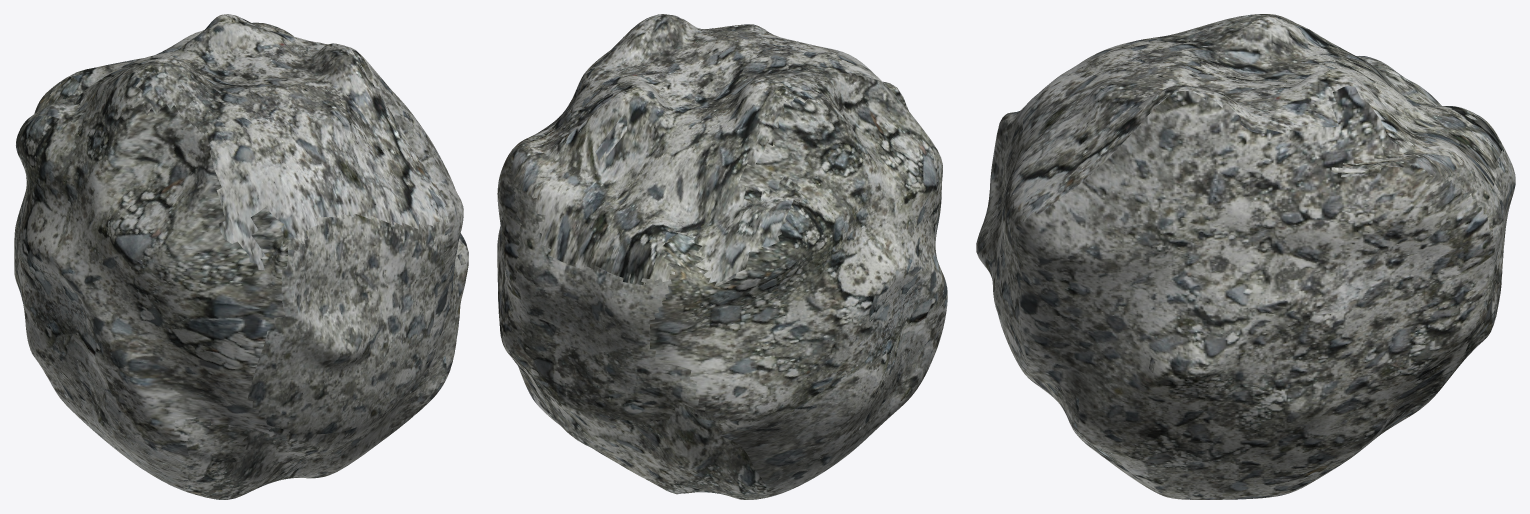
Rendered from asteroid.fbx.
3 renders of one model, left to right at view 1: azimuth 30°, elevation 25°; view 2: azimuth 150°, elevation 25°; view 3: azimuth 270°, elevation 25°, orthographic. The views are drawn at different scales.
Parts seen in each view (by area): view 1: asteroid1_1:Mesh; view 2: asteroid1_1:Mesh; view 3: asteroid1_1:Mesh.
Boxes of the visible parts, left/top/right/bottom form: asteroid1_1:Mesh: left=14, top=14, right=468, bottom=499; asteroid1_1:Mesh: left=497, top=14, right=947, bottom=499; asteroid1_1:Mesh: left=976, top=14, right=1515, bottom=499.
Bounding box in the file's own units: 1.35 × 1.39 × 1.59.
